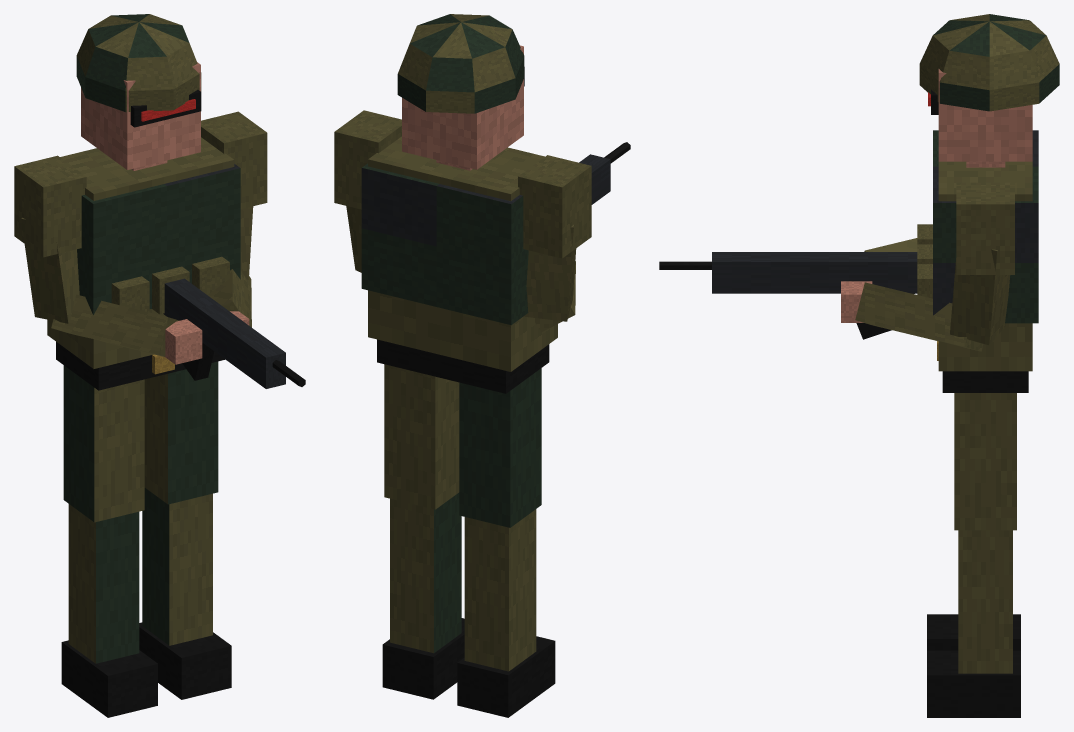
Rendered from enemy_grunt.glb.
3 views of the same model, side by side, from view 1: azimuth 30°, elevation 25°; view 2: azimuth 150°, elevation 25°; view 3: azimuth 270°, elevation 25° (orthographic).
Parts seen in each view (by area): view 1: enemy_grunt; view 2: enemy_grunt; view 3: enemy_grunt.
Part boxes in pixels (x1,y1,x2,y2): enemy_grunt: [14, 14, 305, 717]; enemy_grunt: [334, 14, 630, 717]; enemy_grunt: [659, 14, 1059, 717].
Size of the model in its own units: 0.6828 by 1.88 by 1.02.
2 materials, 2 textured.
